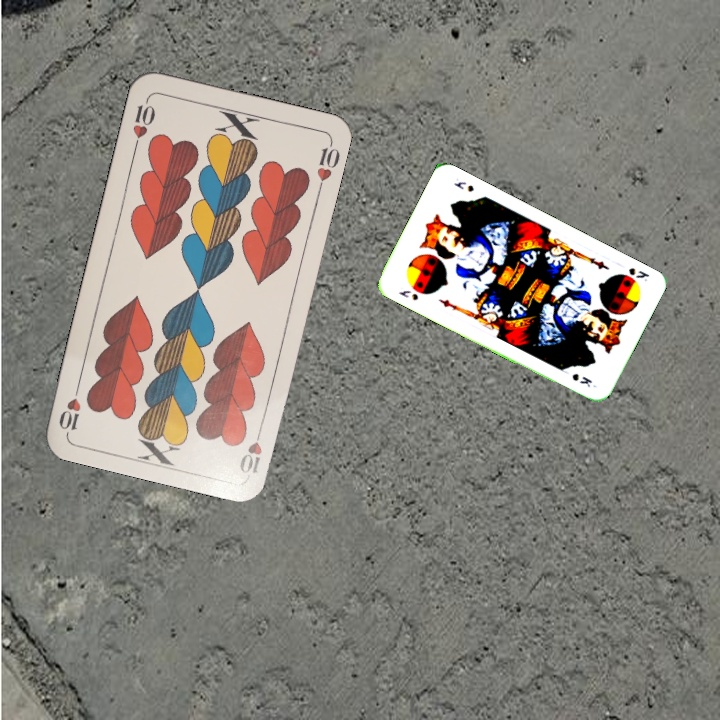H10: (128, 94, 158, 152), (235, 420, 265, 476)
SK: (624, 264, 652, 284), (394, 286, 421, 303)
